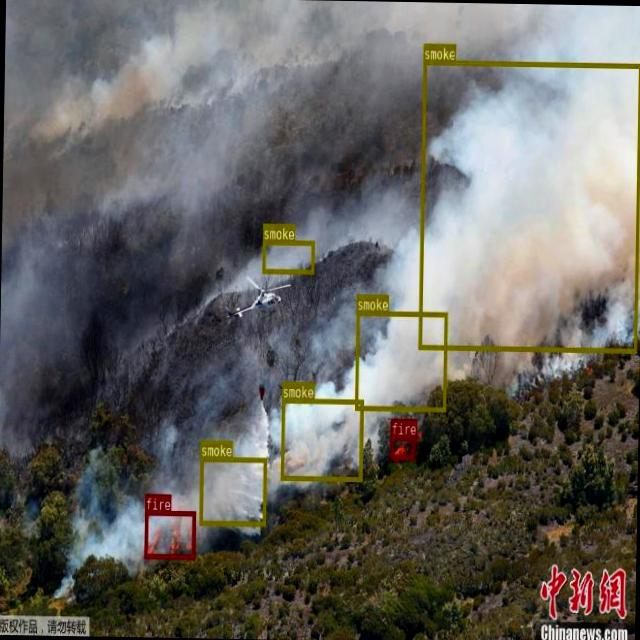fire: (144, 509, 196, 558), (390, 434, 414, 458)
smoke: (417, 58, 640, 351), (354, 309, 447, 411), (280, 398, 362, 480), (199, 456, 266, 524), (261, 238, 314, 274)
